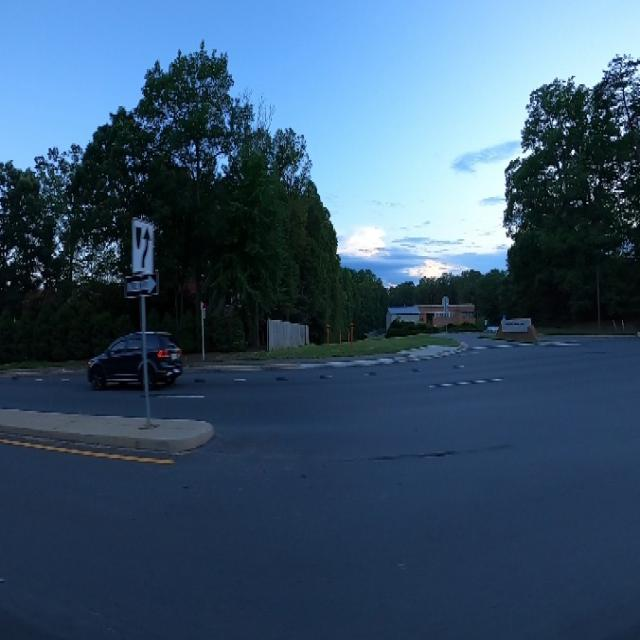cars: (84, 318, 182, 390)
